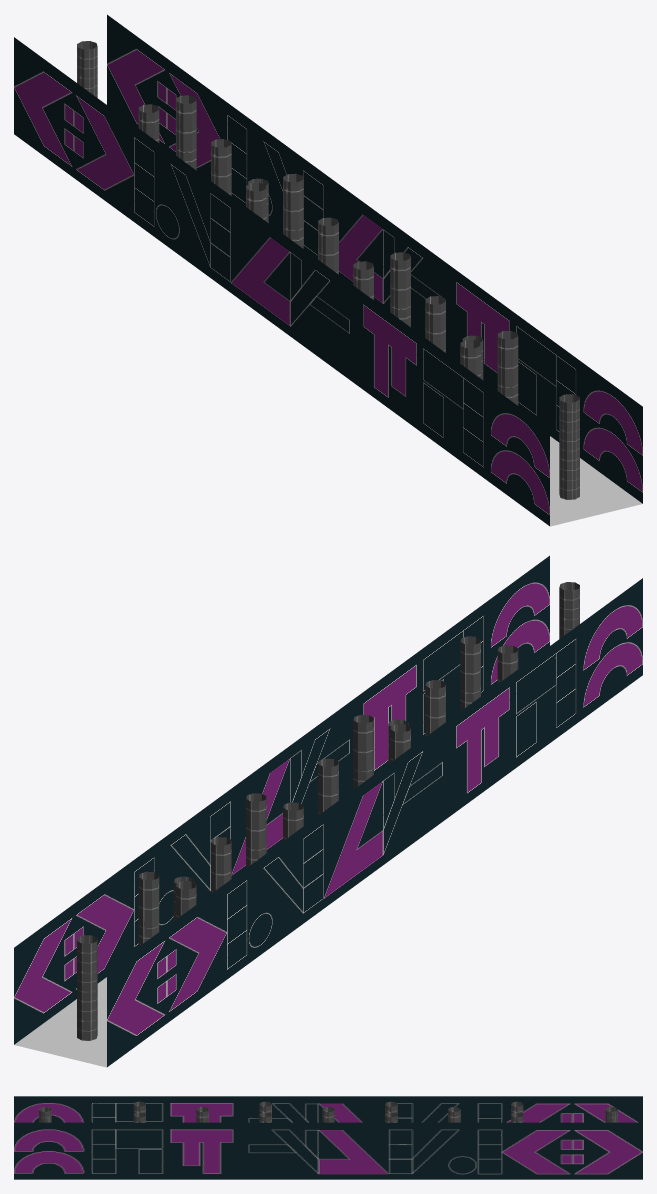
File: Tile02.fbx
3 views of the same model, one above another, from view 1: azimuth 30°, elevation 25°; view 2: azimuth 150°, elevation 25°; view 3: azimuth 270°, elevation 25° (orthographic). The views are drawn at different scales.
Parts seen in each view (by area): view 1: WallRight, WallLeft, ground, pCylinder31, pCylinder30, pCylinder22, pCylinder32, pCylinder24, pCylinder20, pCylinder23, pCylinder34, pCylinder26 (+1 smaller); view 2: WallRight, WallLeft, ground, pCylinder22, pCylinder24, pCylinder34, pCylinder31, pCylinder30, pCylinder4, pCylinder29, pCylinder32, pCylinder26 (+1 smaller); view 3: WallLeft, WallRight, pCylinder34, pCylinder23, pCylinder26, pCylinder29, pCylinder32, pCylinder21, pCylinder25, pCylinder28, pCylinder33.
Boxes of the visible parts, bbox=[...] form: WallRight: bbox=[14, 37, 549, 526]; WallLeft: bbox=[107, 14, 642, 503]; ground: bbox=[550, 436, 642, 526]; pCylinder31: bbox=[497, 330, 518, 387]; pCylinder30: bbox=[390, 252, 410, 309]; pCylinder22: bbox=[176, 95, 196, 152]; pCylinder32: bbox=[559, 394, 579, 451]; pCylinder24: bbox=[283, 173, 303, 230]; pCylinder20: bbox=[559, 446, 579, 499]; pCylinder23: bbox=[211, 139, 231, 194]; pCylinder34: bbox=[77, 41, 97, 96]; pCylinder26: bbox=[318, 217, 338, 272]; WallRight: bbox=[107, 578, 642, 1067]; WallLeft: bbox=[14, 555, 549, 1044]; ground: bbox=[14, 977, 106, 1067]; pCylinder22: bbox=[138, 871, 159, 928]; pCylinder24: bbox=[246, 793, 266, 850]; pCylinder34: bbox=[77, 935, 97, 992]; pCylinder31: bbox=[460, 636, 480, 693]; pCylinder30: bbox=[353, 714, 373, 771]; pCylinder4: bbox=[77, 987, 97, 1040]; pCylinder29: bbox=[425, 680, 445, 735]; pCylinder32: bbox=[559, 582, 579, 637]; pCylinder26: bbox=[318, 758, 338, 813]; WallLeft: bbox=[14, 1122, 642, 1179]; WallRight: bbox=[14, 1096, 642, 1122]; pCylinder34: bbox=[605, 1107, 617, 1122]; pCylinder23: bbox=[448, 1107, 460, 1122]; pCylinder26: bbox=[322, 1107, 334, 1122]; pCylinder29: bbox=[196, 1107, 208, 1122]; pCylinder32: bbox=[39, 1107, 51, 1122]; pCylinder21: bbox=[511, 1101, 523, 1114]; pCylinder25: bbox=[385, 1101, 397, 1114]; pCylinder28: bbox=[259, 1101, 271, 1114]; pCylinder33: bbox=[133, 1101, 145, 1114].
Bounding box in the file's own units: 10 × 10 × 100.
